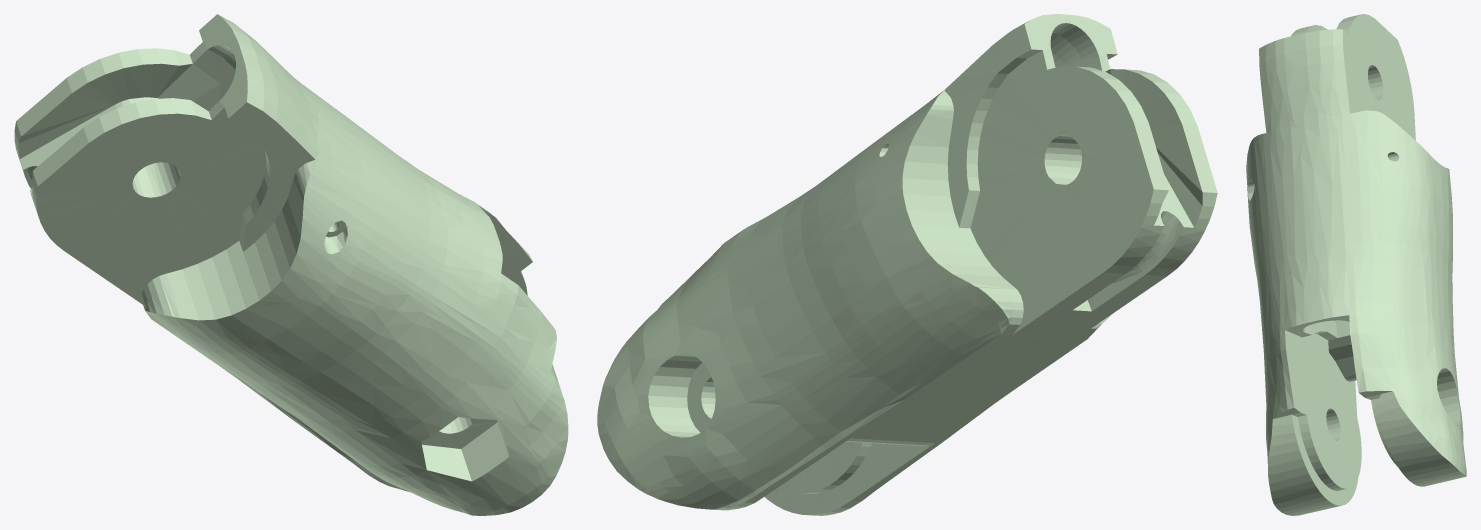
File: i02_leftHand_ThumbMid_visual.obj.balanced.glb
The picture shows the model from 3 angles, left to right: view 1: azimuth 30°, elevation 25°; view 2: azimuth 150°, elevation 25°; view 3: azimuth 270°, elevation 25°; orthographic projection. The views are drawn at different scales.
Bounding box in the file's own units: 0.4503 × 0.4356 × 0.2184.
